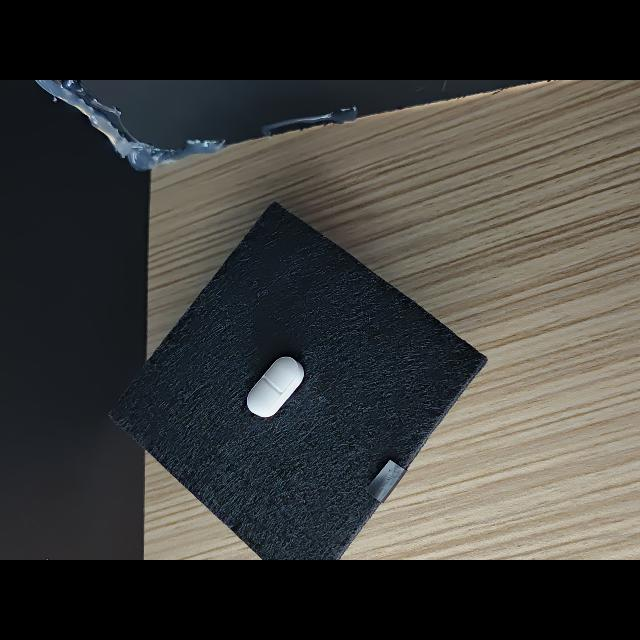Intact Pill: (247, 357, 304, 417)
